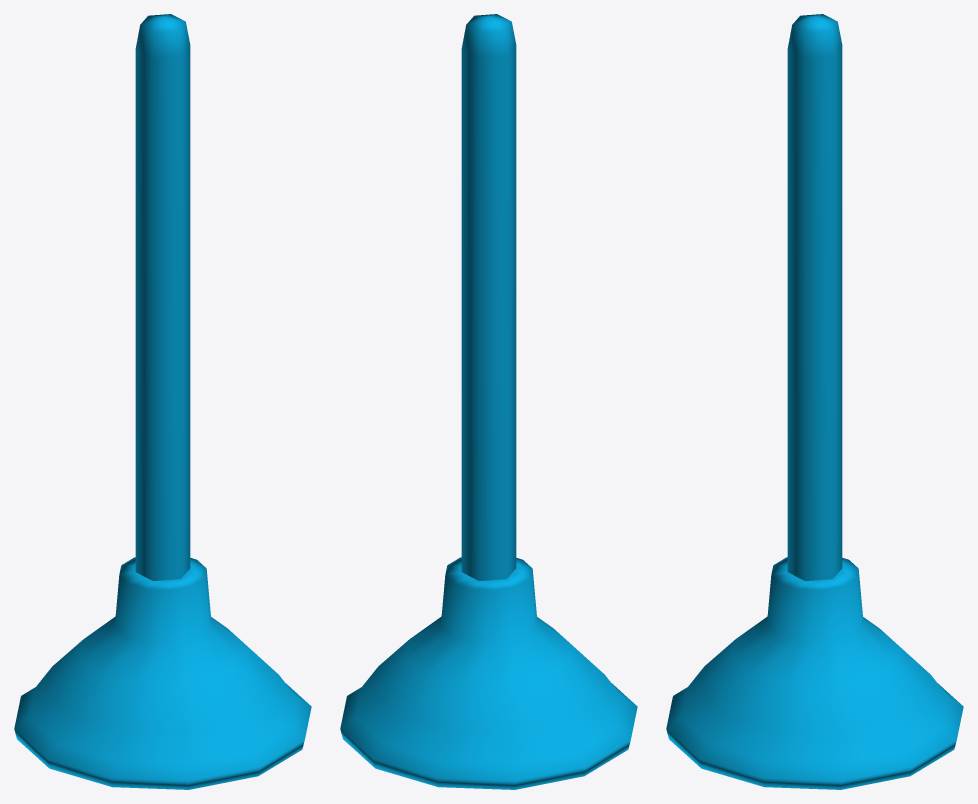
File: Rubber_01_Lod0.fbx
The picture shows the model from 3 angles, left to right: view 1: azimuth 30°, elevation 25°; view 2: azimuth 150°, elevation 25°; view 3: azimuth 270°, elevation 25°; orthographic projection.
Visible parts, largest first — view 1: Rubber_01_Lod0; view 2: Rubber_01_Lod0; view 3: Rubber_01_Lod0.
Boxes of the visible parts, x1=… form: Rubber_01_Lod0: x1=14, y1=14, x2=311, y2=789; Rubber_01_Lod0: x1=340, y1=14, x2=637, y2=789; Rubber_01_Lod0: x1=666, y1=14, x2=963, y2=789.
Size of the model in its own units: 13.81 by 36.42 by 13.81.
